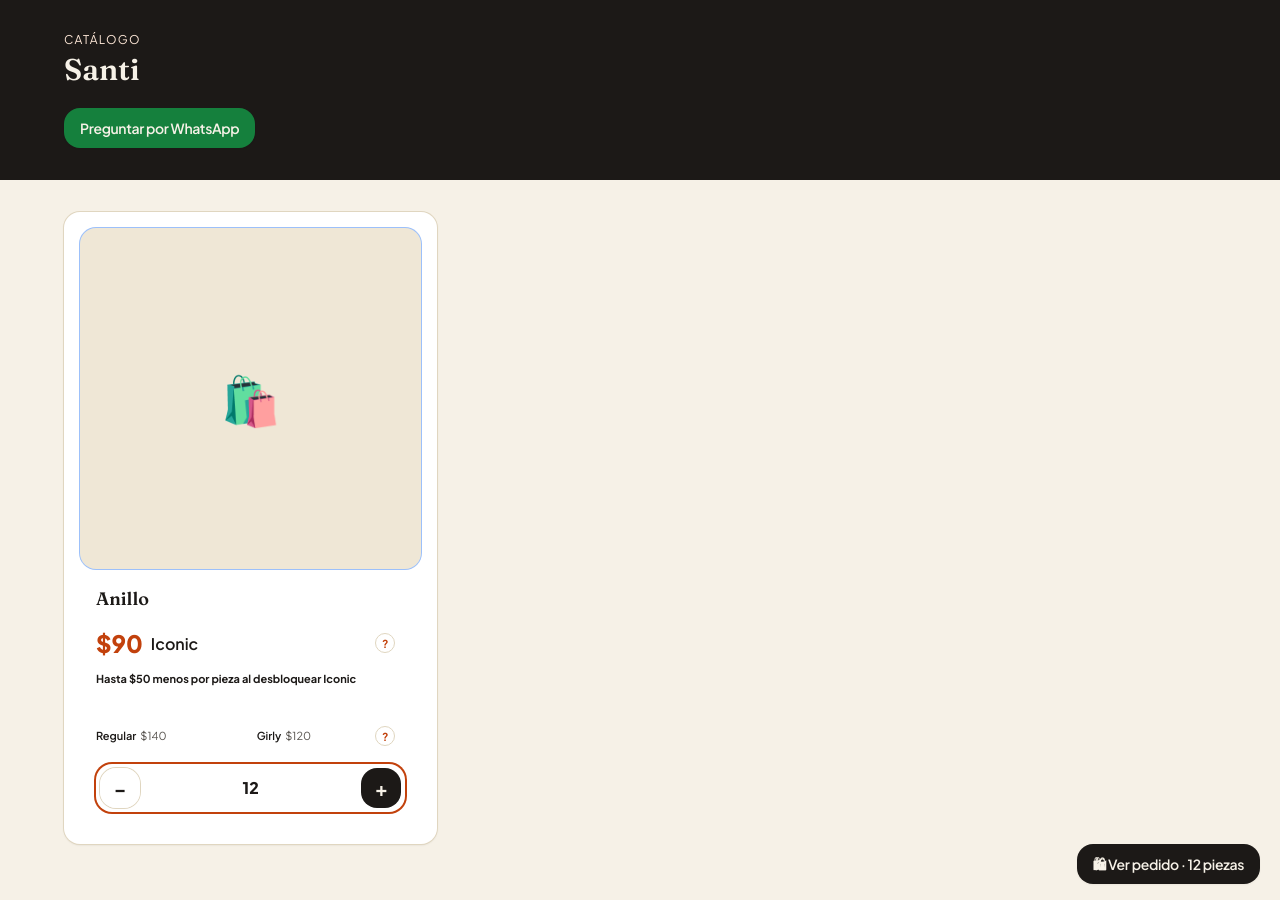
it: PublicCatalogScreen carrito › usa los niveles configurados y envía el subtotal aplicable
Check: the text "$90" is shown, box x1=96 y1=627 x2=143 y2=659
Step 1. Click the button with aria-label "Abrir pedido" → click(1168, 864), box x1=1077 y1=844 x2=1260 y2=884
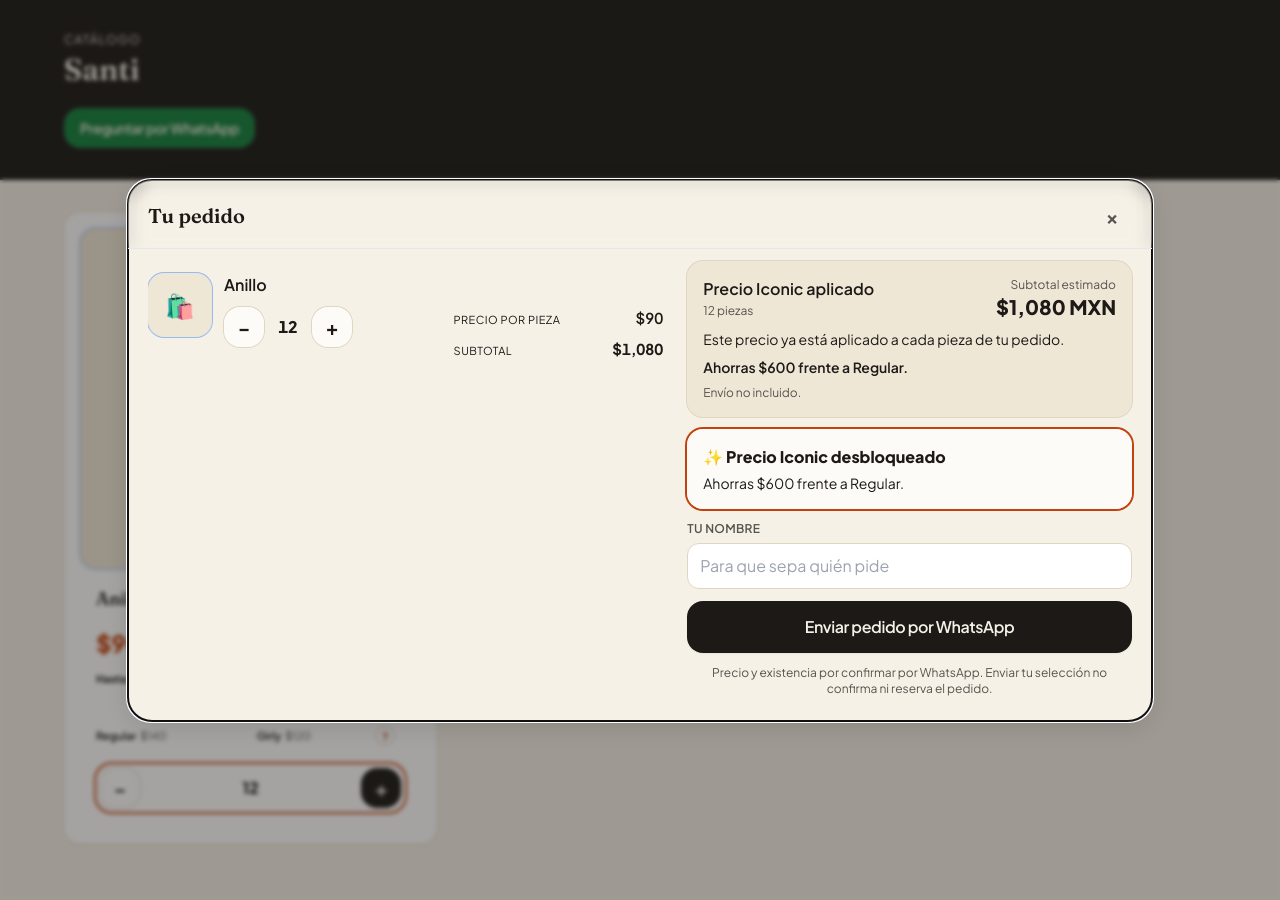
Check: the text "$1,080 MXN" is shown, box x1=996 y1=292 x2=1116 y2=320
Check: the text "Precio Iconic aplicado" is shown, box x1=703 y1=276 x2=874 y2=300
Check: the text "Este precio ya está aplicado a cada pieza de tu pedido." is shown, box x1=703 y1=328 x2=1116 y2=348
